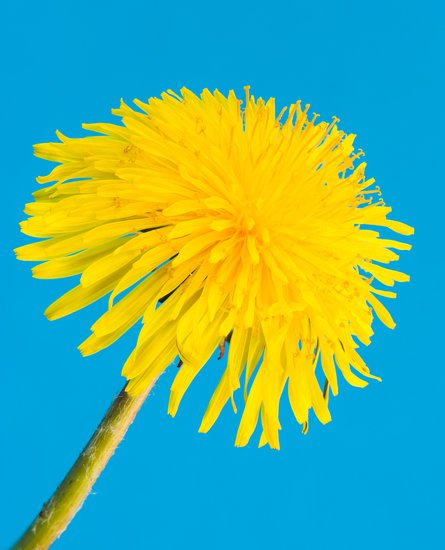dandelion: (27, 103, 412, 448)
